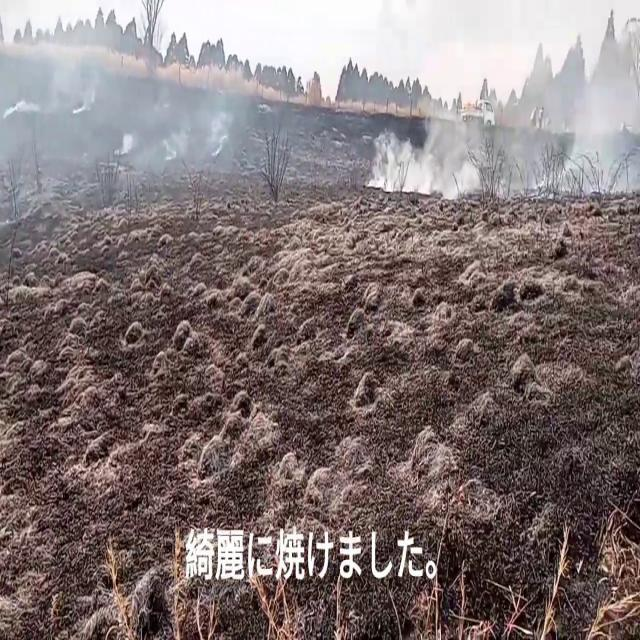Smoke: (366, 5, 640, 220), (0, 28, 228, 206)
